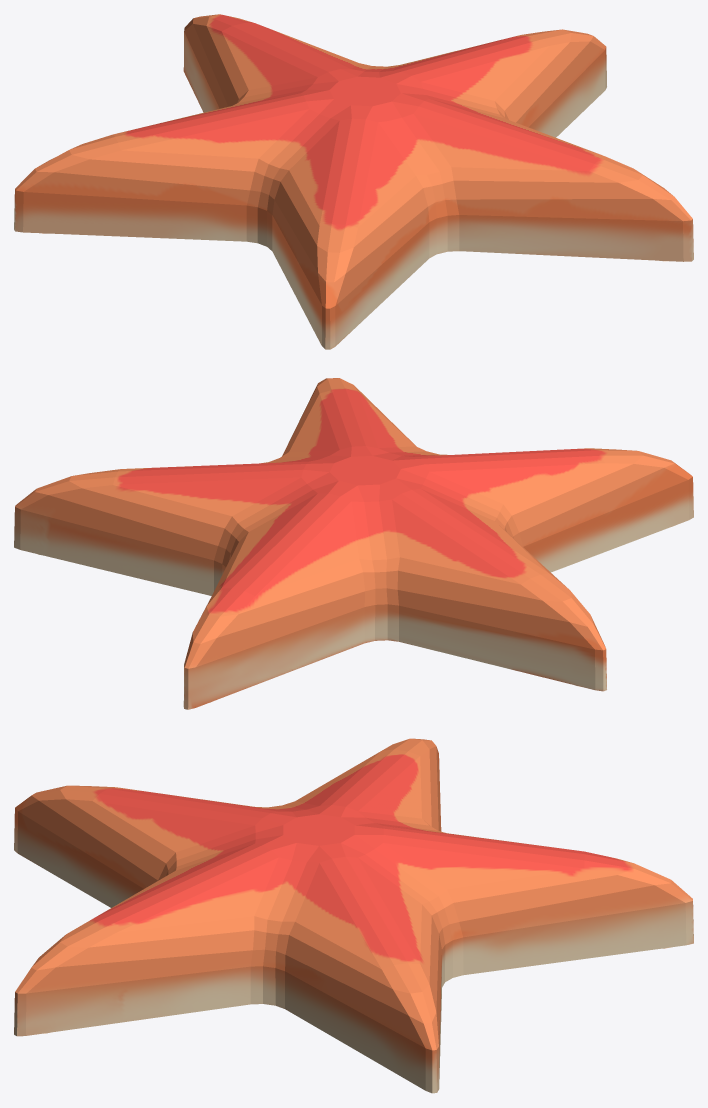
File: estrella-de-mar.fbx
3 renders of one model, top to bottom at view 1: azimuth 30°, elevation 25°; view 2: azimuth 150°, elevation 25°; view 3: azimuth 270°, elevation 25°, orthographic. The views are drawn at different scales.
Visible parts, largest first — view 1: Plane.005; view 2: Plane.005; view 3: Plane.005.
Boxes of the visible parts, <box> form: Plane.005: <box>14,14,693,349</box>; Plane.005: <box>14,378,693,709</box>; Plane.005: <box>14,738,693,1093</box>.
Bounding box in the file's own units: 177 × 30.86 × 169.
